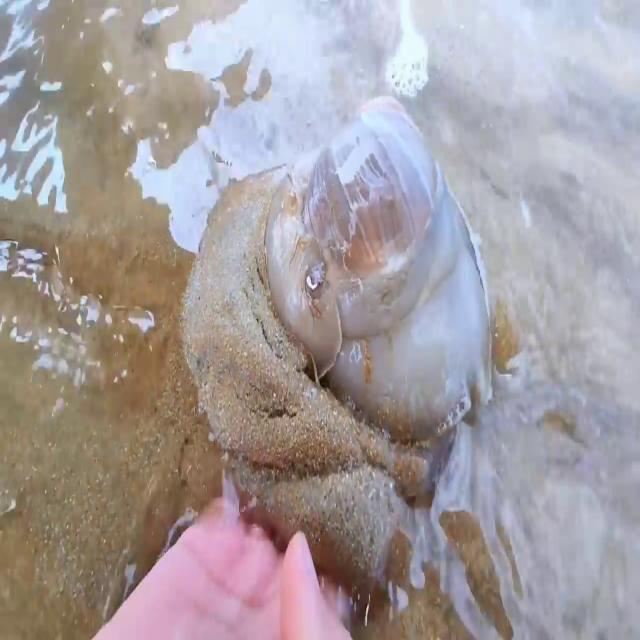octopus: (264, 88, 640, 640)
